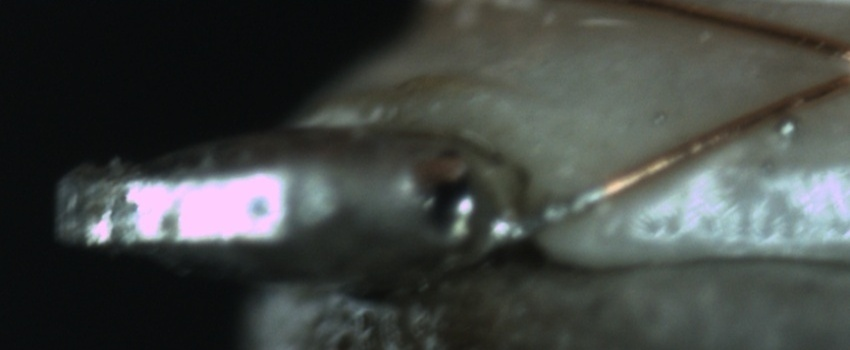TS: (498, 185, 602, 248)
